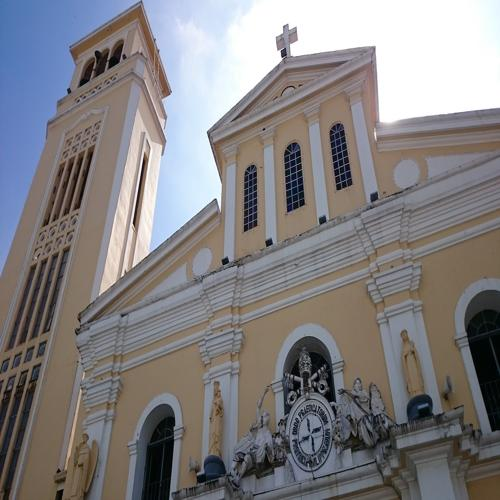Manaoag Church: (7, 3, 500, 500)
